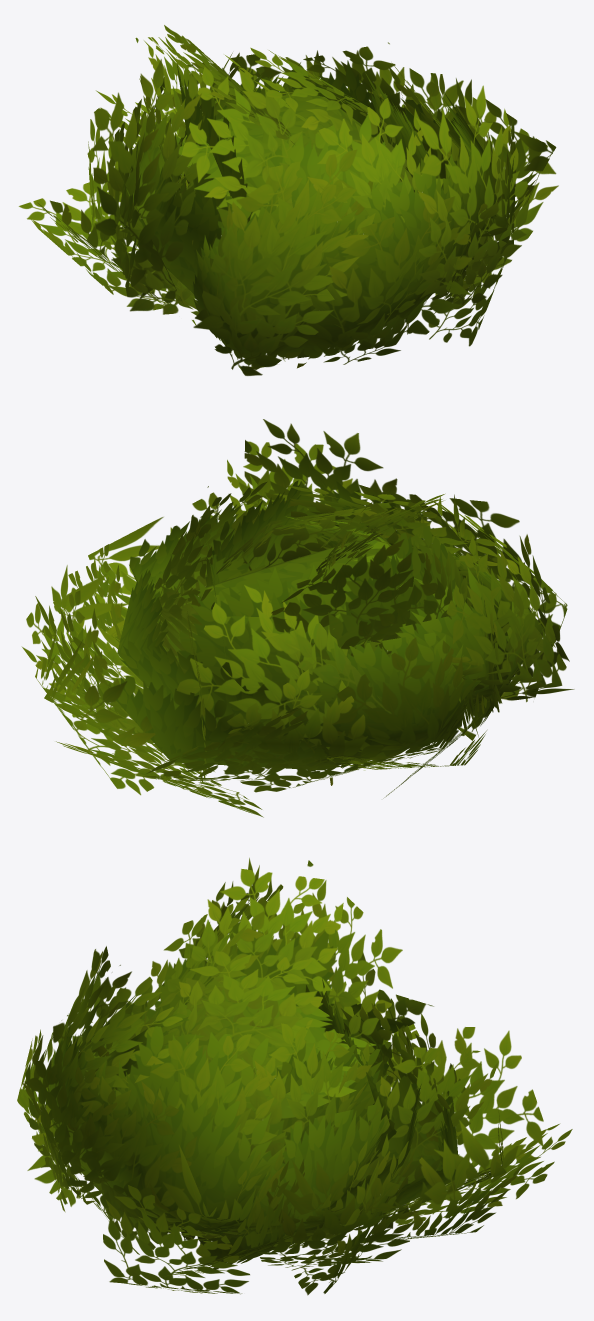
The model's file is bush.glb.
3 views of the same model, one above another, from view 1: azimuth 30°, elevation 25°; view 2: azimuth 150°, elevation 25°; view 3: azimuth 270°, elevation 25° (orthographic). The views are drawn at different scales.
Parts seen in each view (by area): view 1: LCD_Shrub_03_C15; view 2: LCD_Shrub_03_C15; view 3: LCD_Shrub_03_C15.
Part boxes in pixels (<box>): LCD_Shrub_03_C15: <box>19,25,558,375</box>; LCD_Shrub_03_C15: <box>21,419,574,817</box>; LCD_Shrub_03_C15: <box>17,858,572,1295</box>.
Bounding box in the file's own units: 1.93 × 1.2 × 1.9.
1 material, 1 textured.
